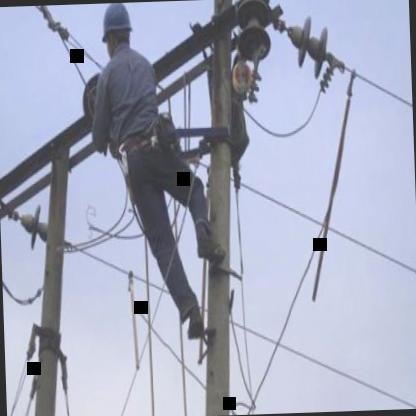helmet: (97, 3, 137, 66)
